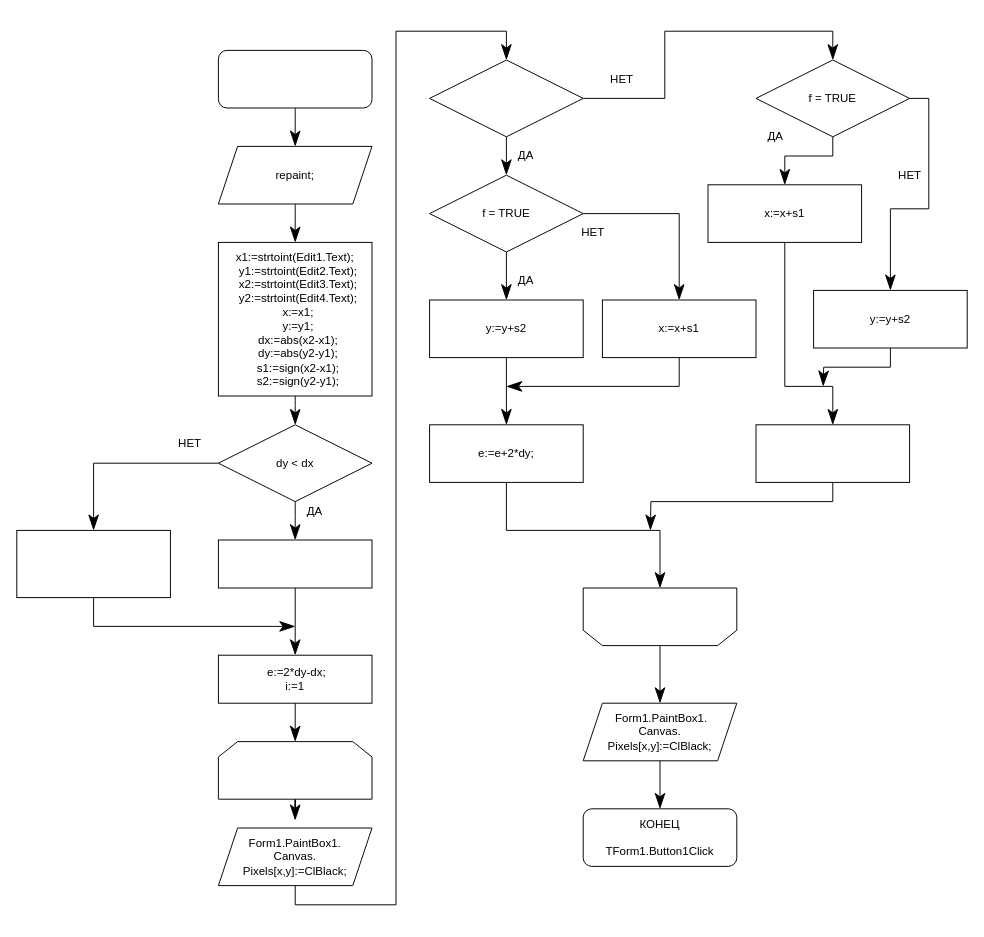
The diagram is 984 pixels wide and 937 high, and some of its shapes have lost their labels. The centre of each missing label's shape, as x and y in pixels:
"e:=e-2*dx;" belongs at point 832,453.
"e<0" belongs at point 506,98.
"f:= false" belongs at point 294,563.
"t:=dx; dx:=dy; dy:=t; f:=true;" belongs at point 93,563.
"TForm1.Button1Click НАЧАЛО" belongs at point 294,78.
"С1" belongs at point 659,616.
"С1 х > (dx+dy)" belongs at point 294,770.
